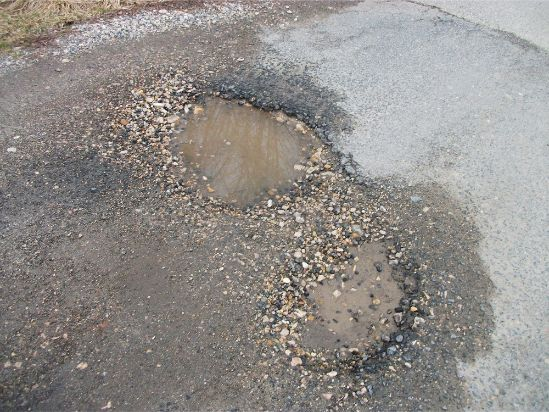pothole: (271, 223, 427, 374), (159, 84, 335, 215)
